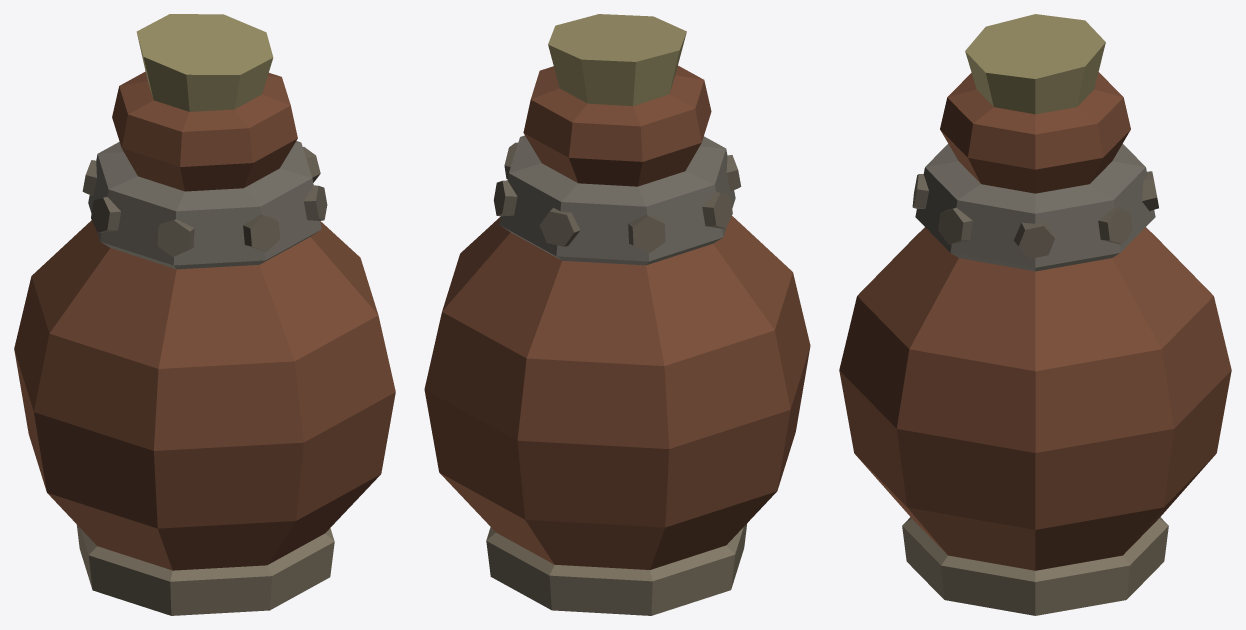
The model's file is Potion_3.fbx.
The picture shows the model from 3 angles, left to right: view 1: azimuth 30°, elevation 25°; view 2: azimuth 150°, elevation 25°; view 3: azimuth 270°, elevation 25°; orthographic projection.
Parts seen in each view (by area): view 1: Potion_3; view 2: Potion_3; view 3: Potion_3.
Boxes of the visible parts, x1,y1,x2,y2 form: Potion_3: (14, 14, 395, 615); Potion_3: (424, 14, 810, 615); Potion_3: (839, 14, 1231, 615).
Size of the model in its own units: 9.24 by 13.51 by 9.24.
